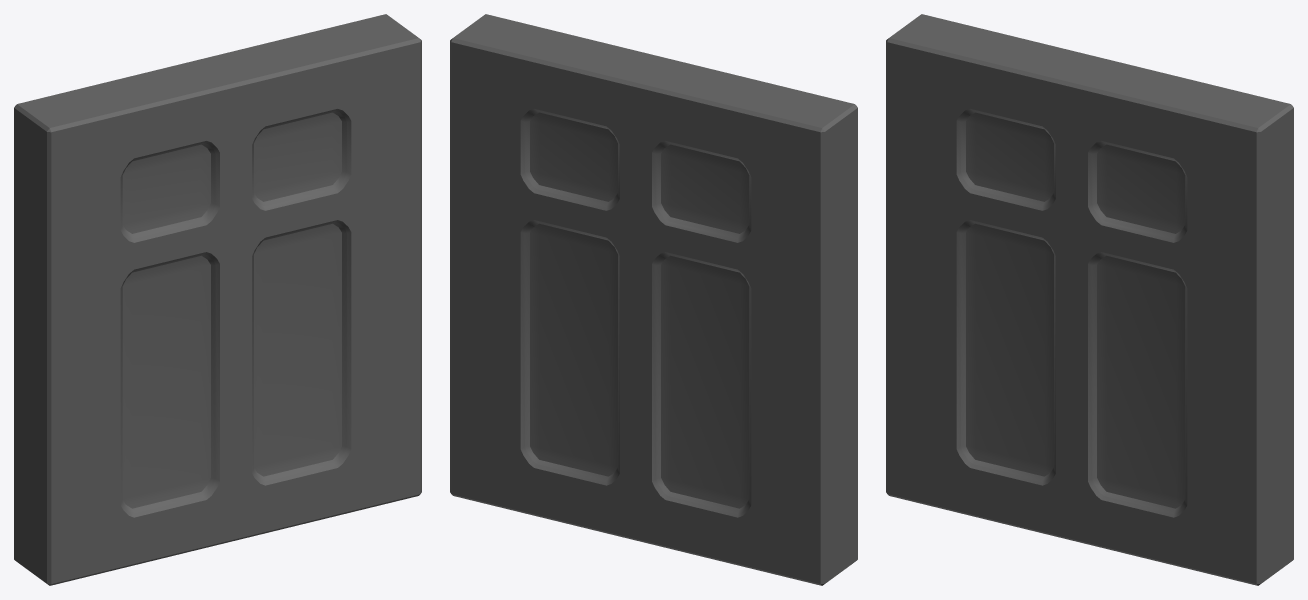
The model's file is SM_Door.fbx.
3 renders of one model, left to right at view 1: azimuth 30°, elevation 25°; view 2: azimuth 150°, elevation 25°; view 3: azimuth 330°, elevation 25°, orthographic.
Parts seen in each view (by area): view 1: Door; view 2: Door; view 3: Door.
Boxes of the visible parts, x1,y1,x2,y2 form: Door: [14, 14, 421, 585]; Door: [450, 14, 857, 585]; Door: [886, 14, 1293, 585].
Size of the model in its own units: 300 by 350 by 50.
